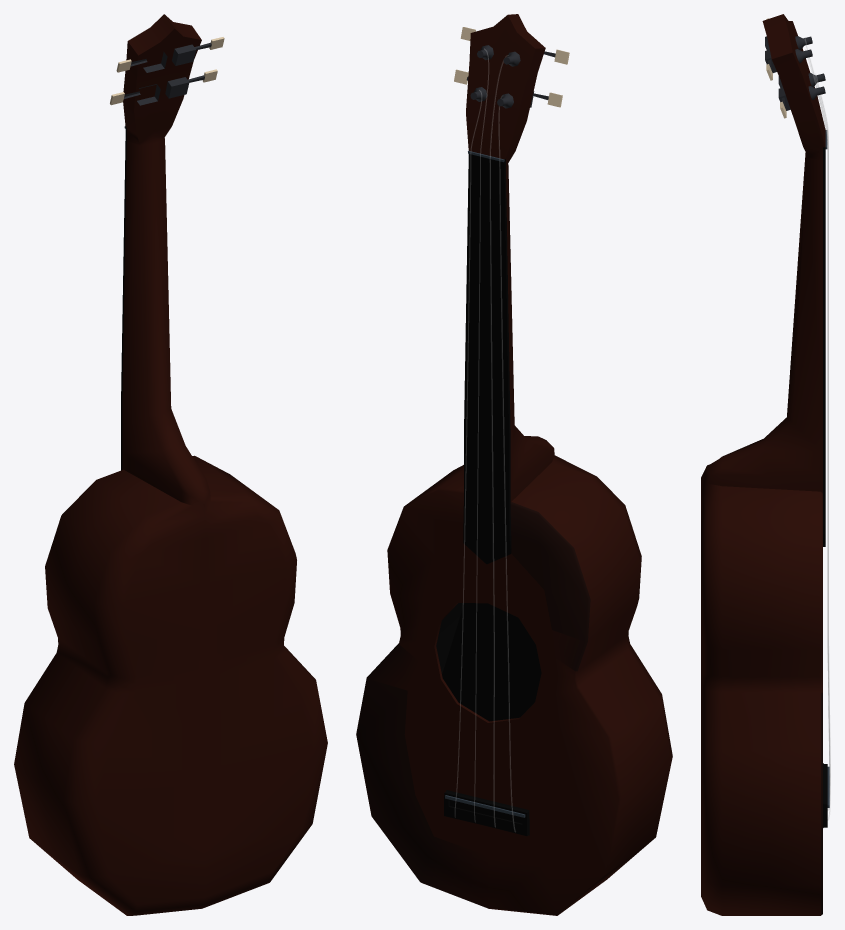
The model's file is Ukulele_5dbc25a5.glb.
3 views of the same model, side by side, from view 1: azimuth 30°, elevation 25°; view 2: azimuth 150°, elevation 25°; view 3: azimuth 270°, elevation 25° (orthographic).
Parts seen in each view (by area): view 1: unnamed (×3); view 2: unnamed (×6); view 3: unnamed (×4).
Boxes of the visible parts, x1,y1,x2,y2 form: unnamed (×3): (14, 14, 327, 915); unnamed (×6): (356, 14, 672, 915); unnamed (×4): (701, 14, 830, 915).
Size of the model in its own units: 2.21 by 6.99 by 0.9359.
